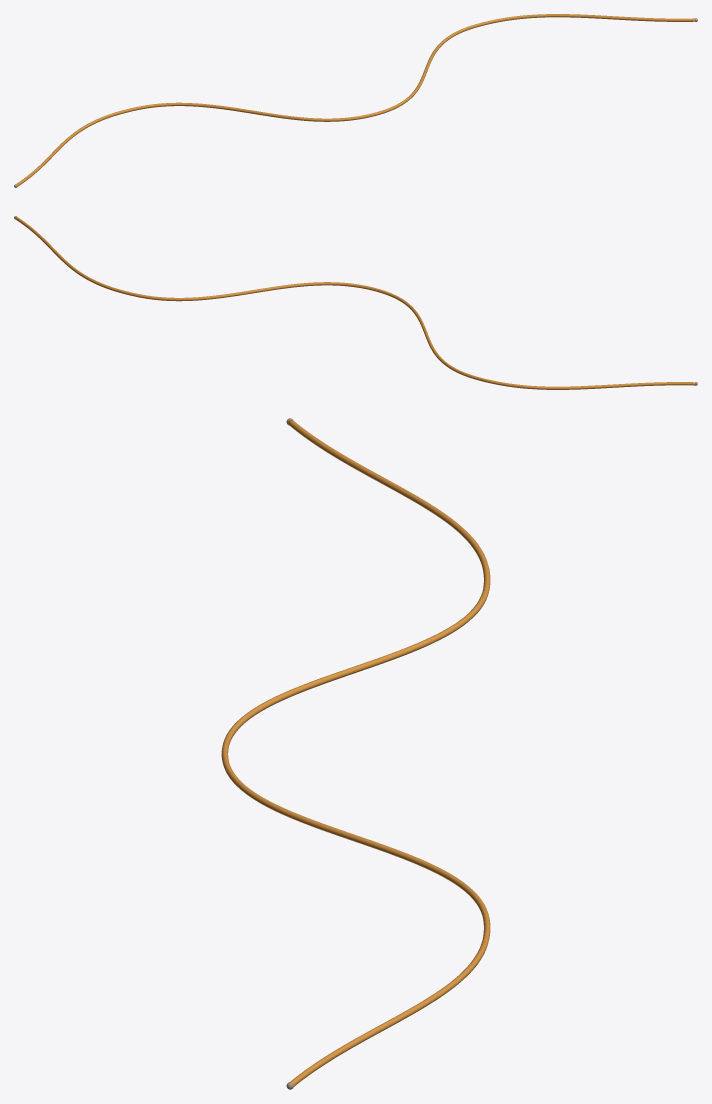
The model's file is Rail_SCurve.glb.
The picture shows the model from 3 angles, top to bottom: view 1: azimuth 30°, elevation 25°; view 2: azimuth 150°, elevation 25°; view 3: azimuth 270°, elevation 25°; orthographic projection. The views are drawn at different scales.
Parts seen in each view (by area): view 1: Rail_SCurve_Rail; view 2: Rail_SCurve_Rail; view 3: Rail_SCurve_Rail.
Part boxes in pixels (x1=…): Rail_SCurve_Rail: x1=16, y1=14, x2=695, y2=186; Rail_SCurve_Rail: x1=15, y1=216, x2=695, y2=389; Rail_SCurve_Rail: x1=221, y1=419, x2=490, y2=1086.
Size of the model in its own units: 24.11 by 0.1148 by 4.11.
Materials: 2 (1 with a texture image).
